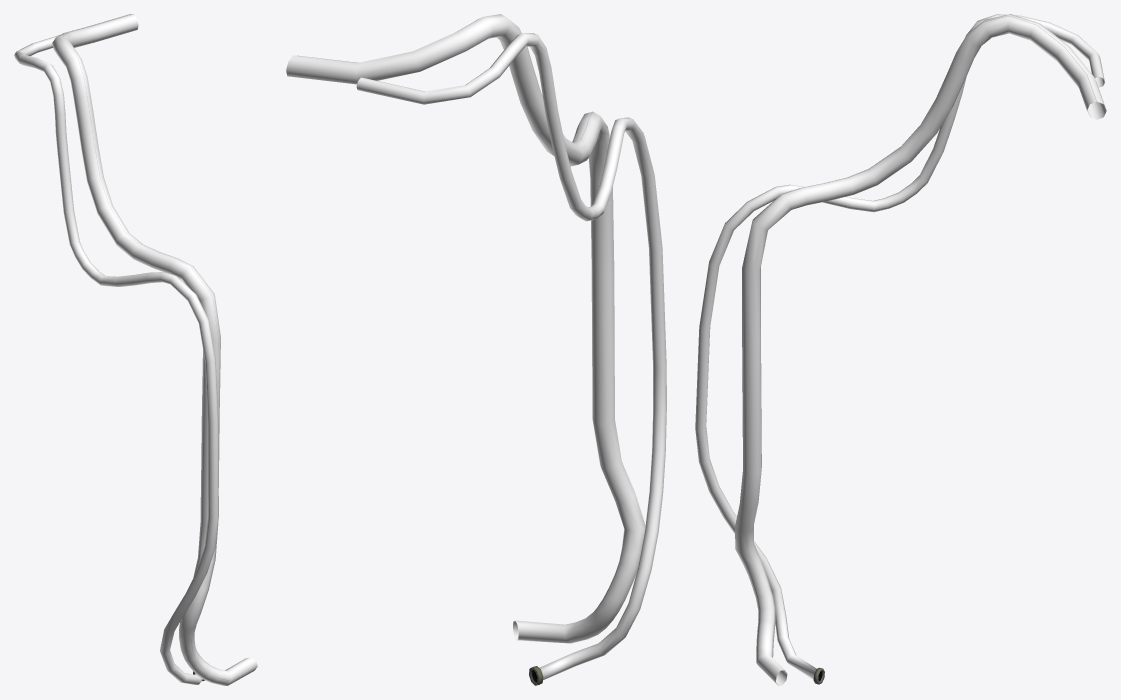
File: ConstructionWires.fbx
3 views of the same model, side by side, from view 1: azimuth 30°, elevation 25°; view 2: azimuth 150°, elevation 25°; view 3: azimuth 270°, elevation 25° (orthographic). The views are drawn at different scales.
Visible parts, largest first — view 1: cable.001; view 2: cable.001; view 3: cable.001.
Boxes of the visible parts, x1=… form: cable.001: x1=14, y1=14, x2=257, y2=685; cable.001: x1=286, y1=14, x2=666, y2=685; cable.001: x1=695, y1=14, x2=1106, y2=685.
Bounding box in the file's own units: 96.81 × 378 × 219.
